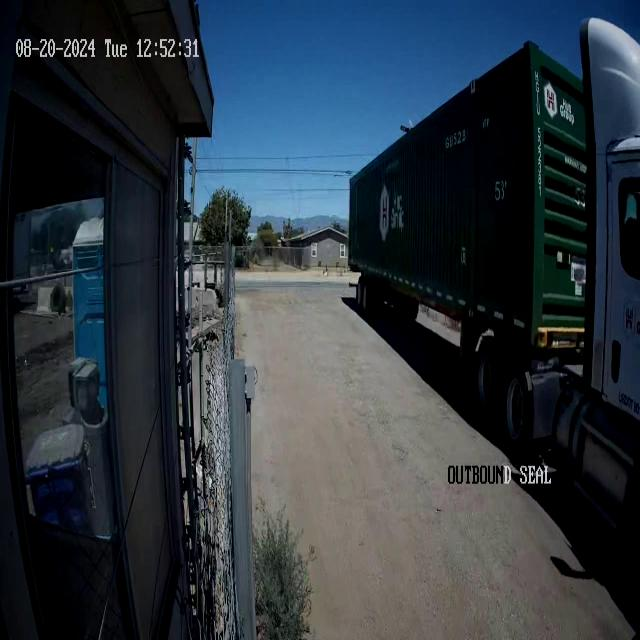TRUCK_CONTAINER: (347, 19, 640, 513)
